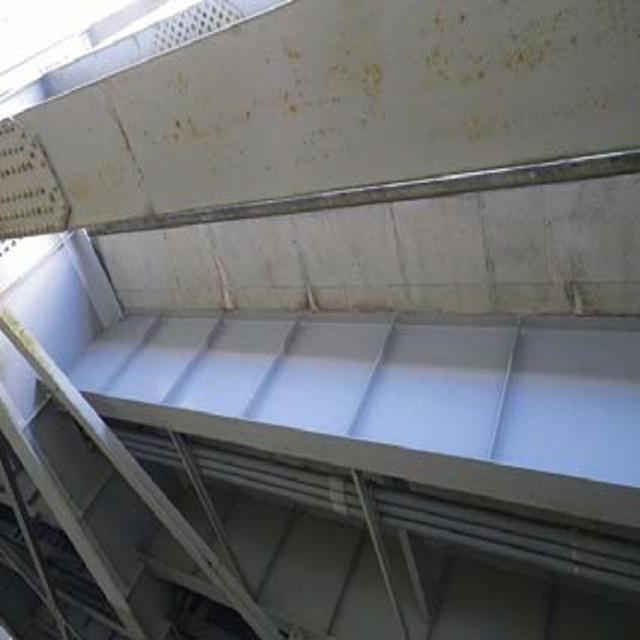freelime: (197, 243, 247, 321), (562, 276, 597, 324), (296, 274, 327, 320)
